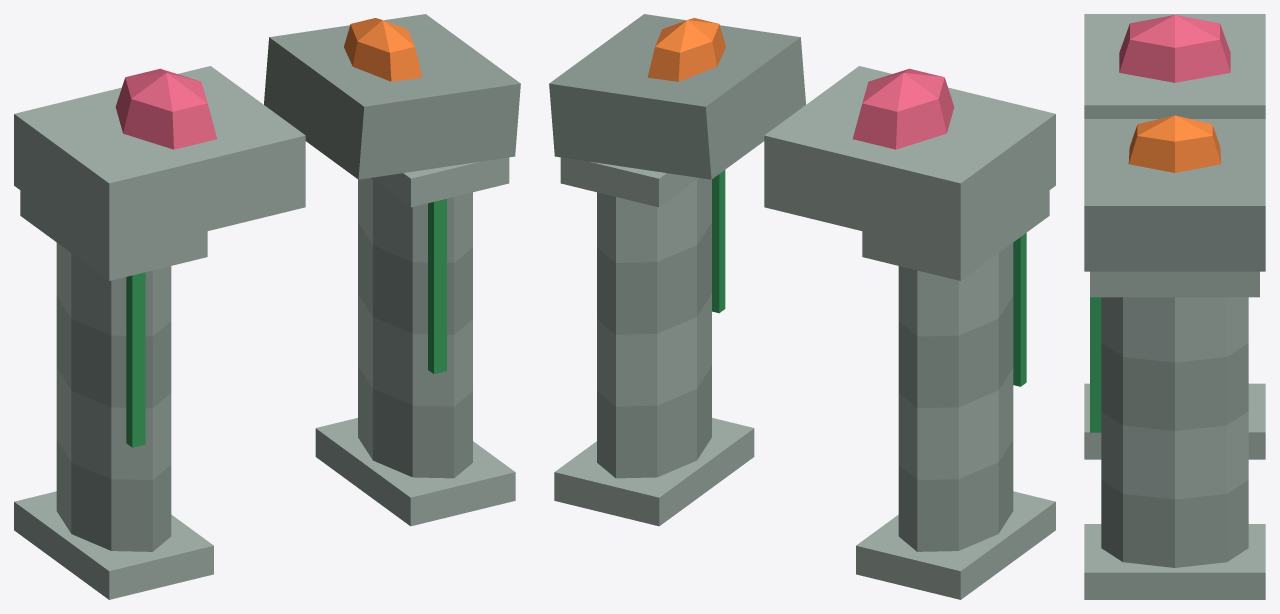
Rendered from env_r15_temple_arch_ruin.glb.
3 renders of one model, left to right at view 1: azimuth 30°, elevation 25°; view 2: azimuth 150°, elevation 25°; view 3: azimuth 270°, elevation 25°, orthographic. The views are drawn at different scales.
Visible parts, largest first — view 1: env_r15_temple_arch_ruin; view 2: env_r15_temple_arch_ruin; view 3: env_r15_temple_arch_ruin.
Boxes of the visible parts, left/top/right/bottom form: env_r15_temple_arch_ruin: left=14, top=14, right=520, bottom=599; env_r15_temple_arch_ruin: left=549, top=14, right=1055, bottom=599; env_r15_temple_arch_ruin: left=1084, top=14, right=1265, bottom=599.
Size of the model in its own units: 6 by 6.5 by 2.4.
1 material, 1 textured.
